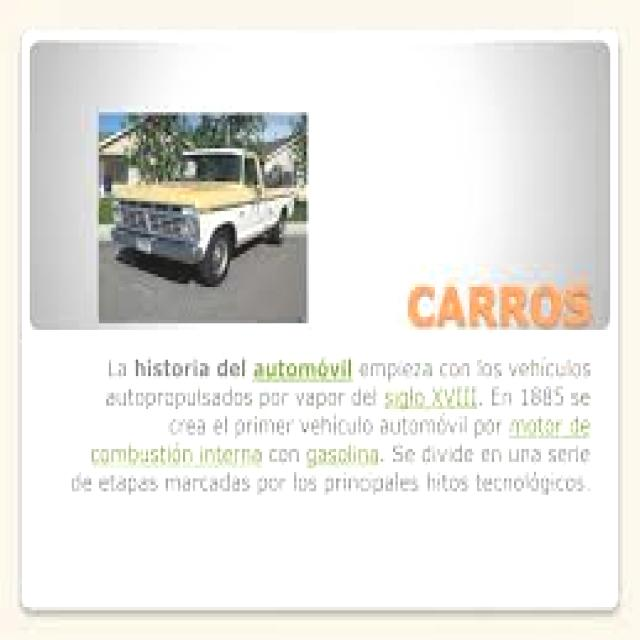CMT: (116, 146, 300, 282)
